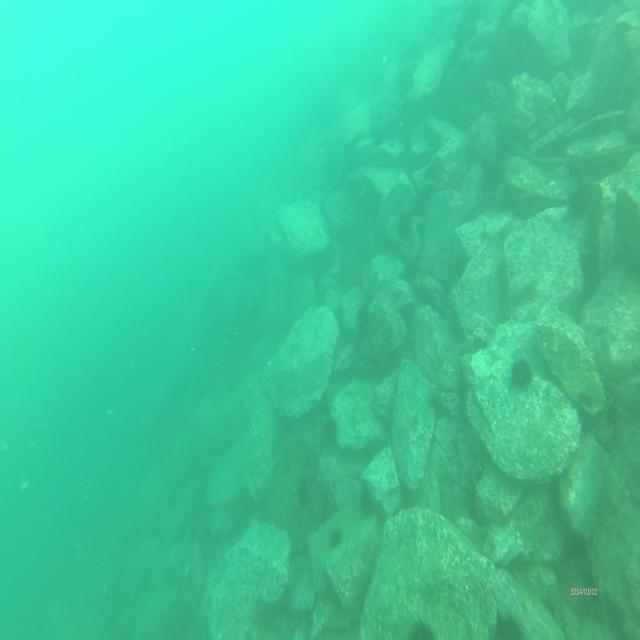echinus: (491, 607, 525, 640), (510, 356, 536, 392), (567, 182, 585, 231), (316, 411, 336, 453), (406, 613, 434, 640), (397, 210, 414, 248), (294, 478, 309, 512), (358, 488, 376, 516), (356, 305, 368, 337), (328, 524, 342, 550)
